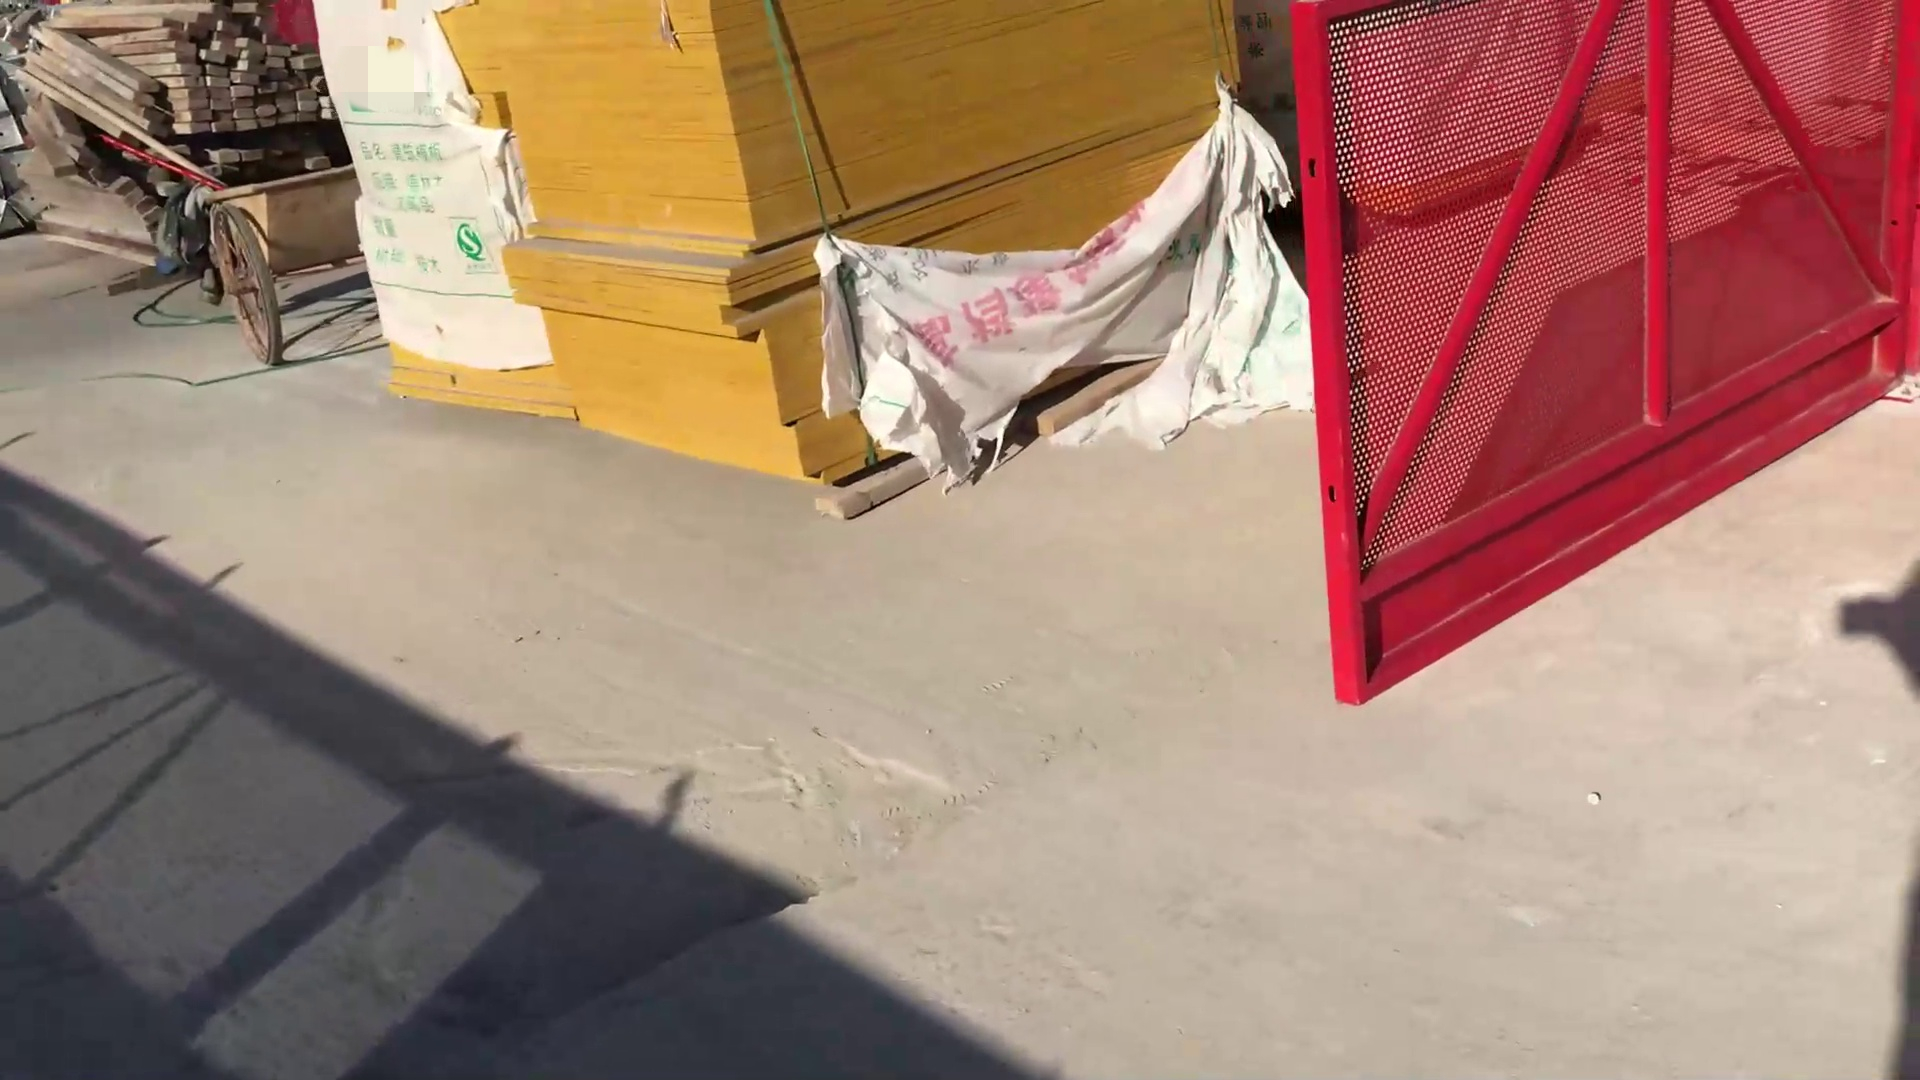board: (498, 7, 1258, 485)
fence: (1298, 1, 1920, 707)
handcart: (200, 156, 375, 371)
wood: (1, 3, 336, 149)
